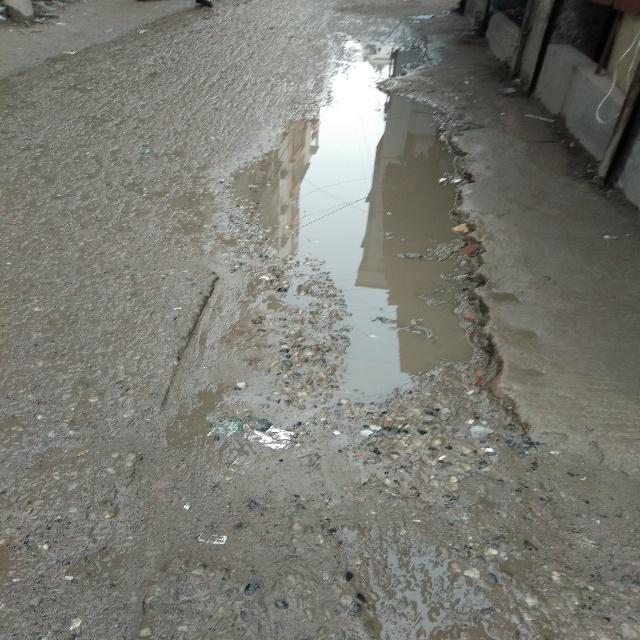Surface Erosion: (195, 0, 529, 498)
